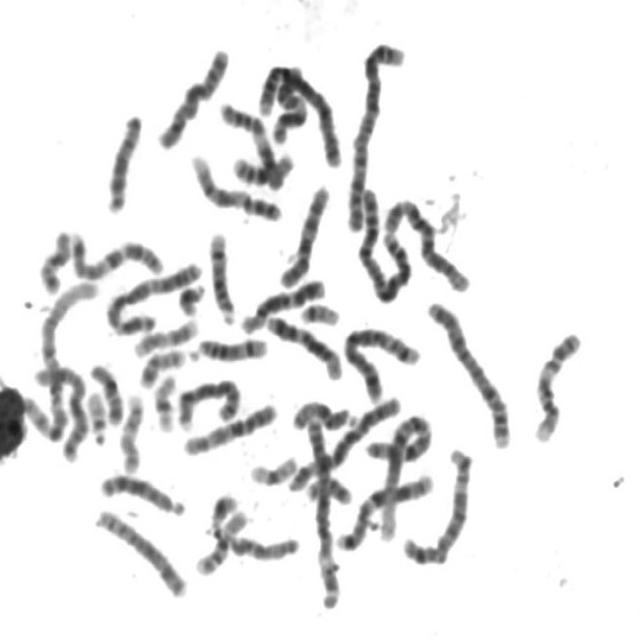A1: (22, 273, 102, 448), (370, 404, 437, 544)
A2: (342, 34, 409, 234), (352, 179, 416, 305)
A3: (300, 408, 347, 612), (101, 253, 206, 337)
B4: (423, 292, 516, 451), (254, 55, 346, 168)
B5: (398, 440, 476, 568), (338, 318, 424, 404)
C10: (178, 394, 281, 458), (276, 177, 334, 290)
C11: (214, 94, 284, 191), (271, 68, 313, 144)
C12: (262, 306, 346, 382), (235, 271, 330, 336)
C6: (284, 388, 406, 494), (378, 191, 474, 295)
C7: (331, 467, 437, 553), (66, 224, 166, 282)
C8: (90, 500, 192, 601), (173, 371, 245, 432)
C9: (186, 146, 287, 223), (529, 323, 586, 444)
D13: (101, 104, 147, 215), (97, 466, 189, 518)
D14: (204, 224, 240, 326), (185, 328, 272, 364)
D15: (213, 508, 302, 564), (288, 392, 360, 432)
E16: (191, 504, 252, 577), (228, 144, 298, 188)
E17: (129, 311, 202, 360), (115, 386, 147, 475)
E18: (85, 357, 126, 428), (37, 231, 76, 297)
F19: (245, 448, 301, 488), (149, 367, 180, 434)
F20: (135, 342, 189, 389), (307, 476, 352, 508)
G21: (173, 274, 209, 317), (205, 486, 241, 527)
G22: (82, 383, 110, 448), (296, 296, 343, 328)
X: (153, 39, 233, 152), (34, 366, 88, 465)
